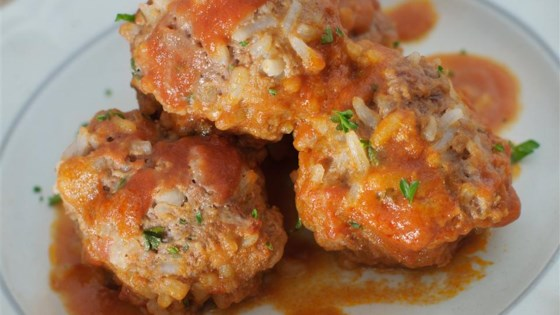meatballs: (182, 13, 475, 238), (97, 127, 272, 286)
